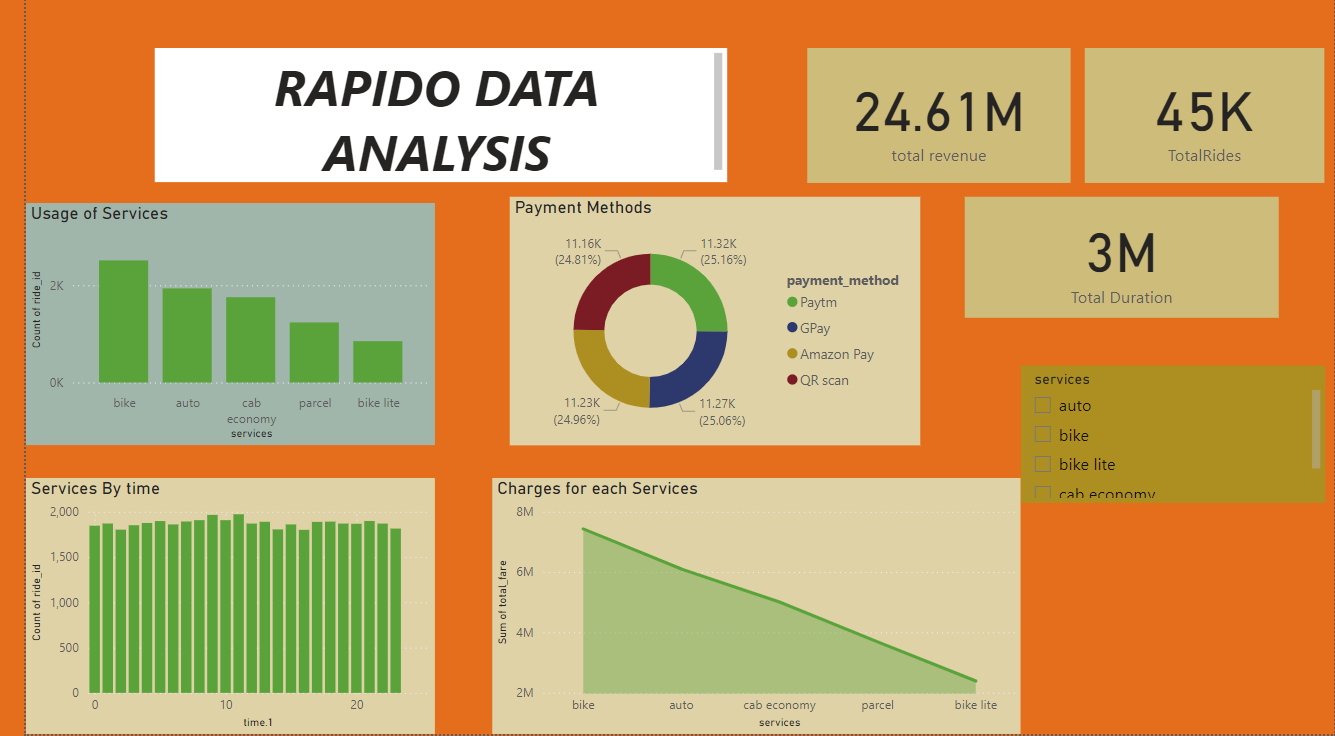

Layout of this report page (visuals, bound fields, positions):
{"tool":"powerbi","page":{"name":"Analysis","canvas":[1280,720],"ordinal":0},"visuals":[{"type":"card","fields":{"Values":["rides_data.total revenue"]},"box":[764.3,49.4,258,131.7],"z":0},{"type":"card","fields":{"Values":["rides_data.TotalRides"]},"box":[1036,49.4,234.6,131.7],"z":1},{"type":"card","fields":{"Values":["rides_data.Total Duration"]},"box":[918,194.9,307.4,118],"z":2},{"type":"clusteredColumnChart","title":"Usage of Services","fields":{"Category":["rides_data.services"],"Y":["CountNonNull(rides_data.ride_id)"]},"box":[0,200.9,400,236.6],"z":3},{"type":"donutChart","title":"Payment Methods","fields":{"Category":["rides_data.payment_method"],"Y":["CountNonNull(rides_data.ride_id)"]},"box":[473.2,194,401.7,243.4],"z":4},{"type":"clusteredColumnChart","title":"Services By time","fields":{"Category":["rides_data.time.1"],"Y":["CountNonNull(rides_data.ride_id)"]},"box":[0,469.8,400,250.2],"z":5},{"type":"stackedAreaChart","title":"Charges for each Services","fields":{"Category":["rides_data.services"],"Y":["Sum(rides_data.total_fare)"]},"box":[456.7,470,516.7,250],"z":6},{"type":"slicer","fields":{"Values":["rides_data.services"]},"box":[972.9,359.5,297.8,134.5],"z":7},{"type":"textbox","box":[126,49.4,560,131.1],"z":8}]}

Visuals, with their boxes in screenshot pixels (x1, y1, x2, y2), scaled from the page's 1280x720 canvas onto the 1335x736 screenshot:
card - rides_data.total revenue: (797,50,1066,185)
card - rides_data.TotalRides: (1081,50,1325,185)
card - rides_data.Total Duration: (957,199,1278,320)
"Usage of Services" clusteredColumnChart: (0,205,417,447)
"Payment Methods" donutChart: (494,198,912,447)
"Services By time" clusteredColumnChart: (0,480,417,735)
"Charges for each Services" stackedAreaChart: (476,480,1015,735)
slicer - rides_data.services: (1015,367,1325,505)
textbox: (131,50,715,185)
